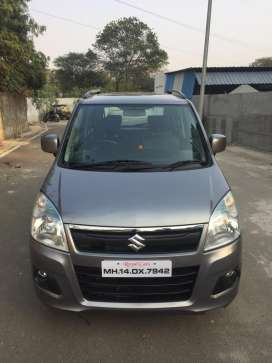nameplate: (102, 261, 172, 276)
